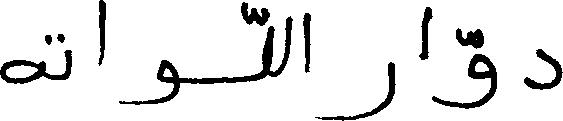X: (434, 23, 495, 113), (320, 57, 393, 120), (120, 55, 177, 109), (526, 44, 562, 94), (0, 55, 39, 88), (262, 3, 271, 83), (282, 11, 290, 75), (422, 2, 429, 64), (100, 0, 104, 69), (304, 8, 308, 77), (66, 45, 70, 83)
